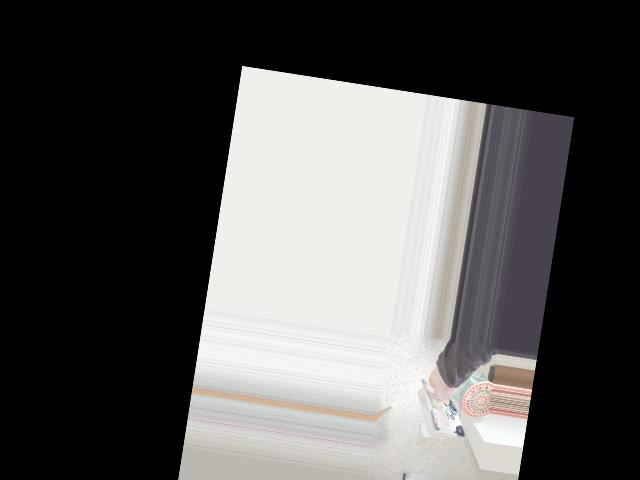cheese: (404, 364, 483, 445)
